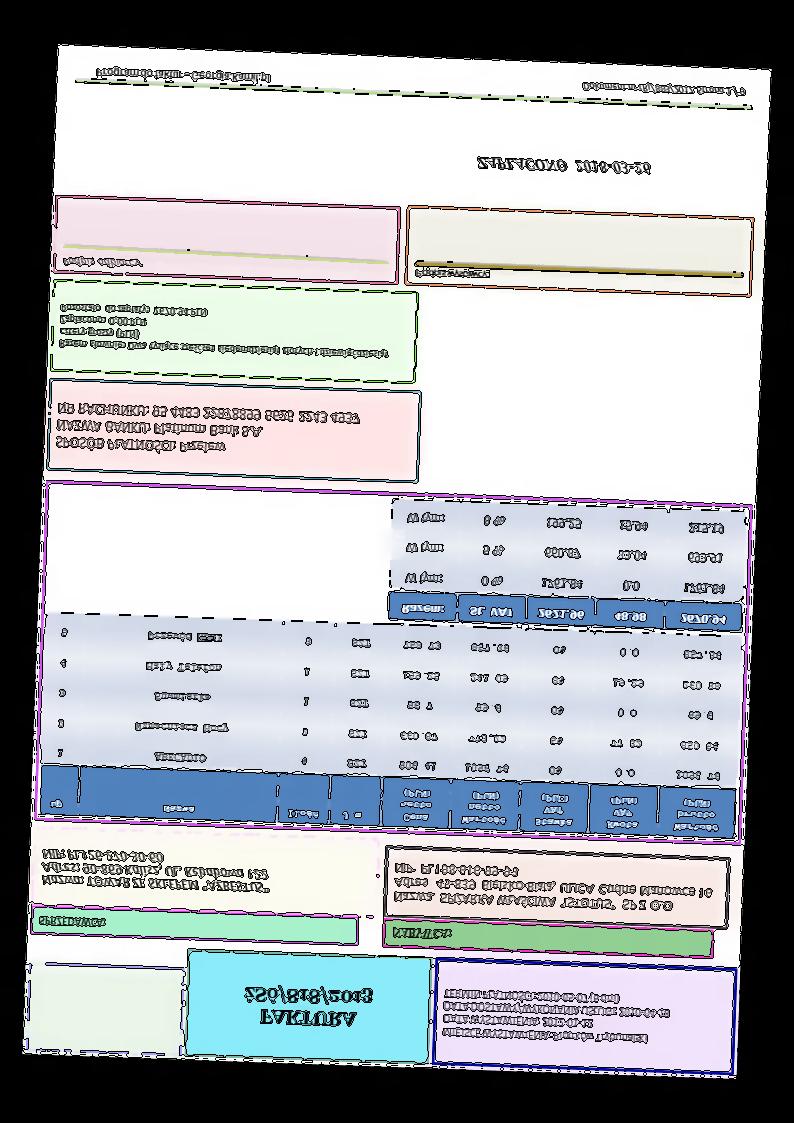Table: (38, 611, 743, 840), (386, 499, 746, 633)
TextBox: (54, 399, 363, 463), (57, 302, 391, 361), (390, 860, 715, 914), (440, 985, 672, 1049), (39, 847, 271, 894), (240, 982, 376, 1030), (473, 154, 653, 178), (94, 65, 272, 87), (581, 78, 747, 99), (60, 252, 146, 271), (413, 265, 490, 282), (36, 913, 107, 930), (390, 925, 453, 941)
